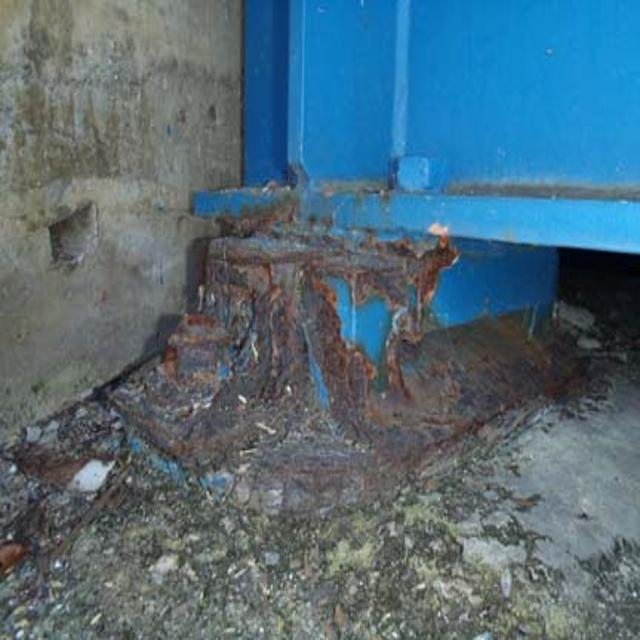corrosion: (110, 222, 543, 504)
